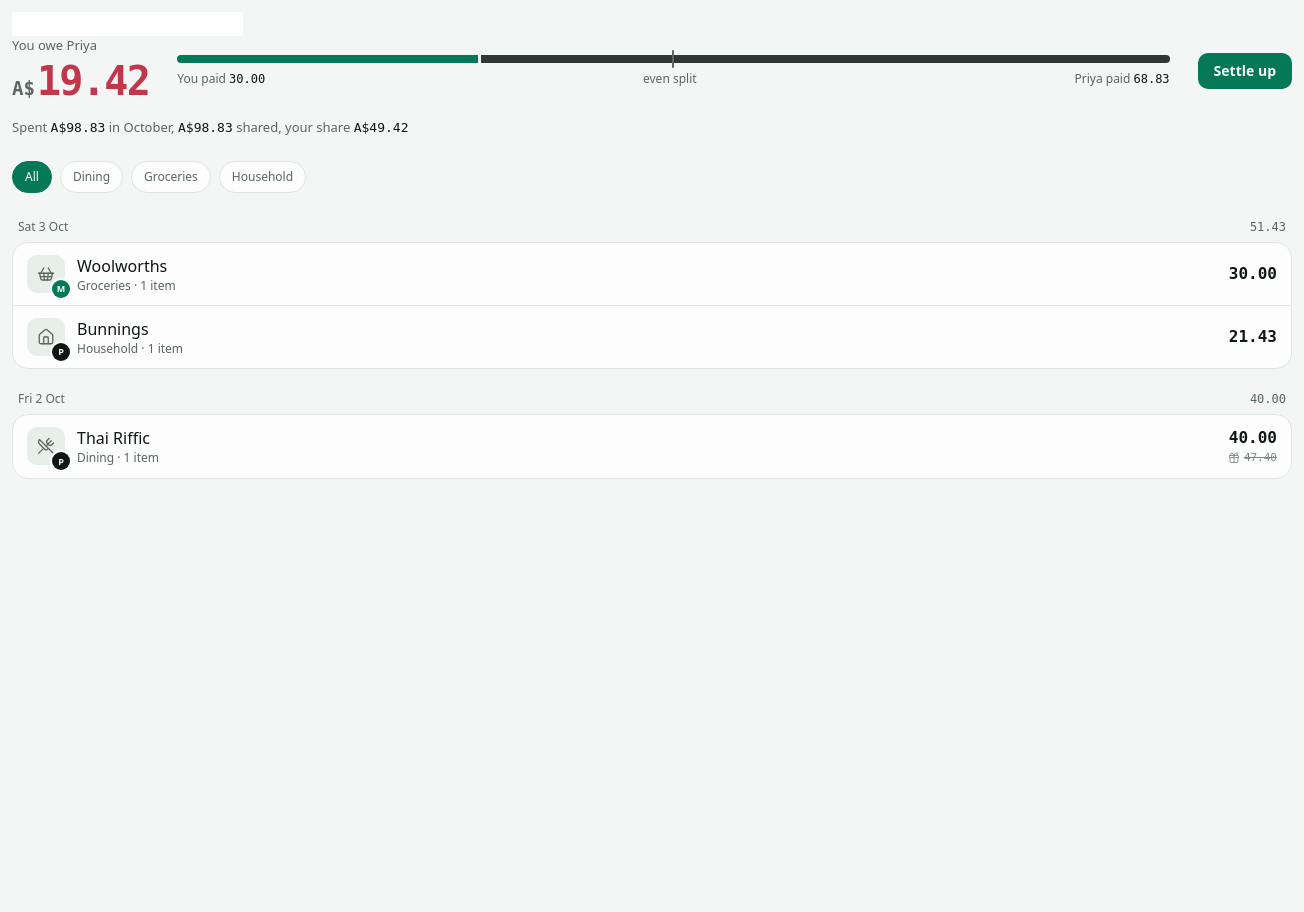
ExpenseList › expands one row at a time on mobile
Click the button "M Woolworths Groceries · 1 item 30.00" at (46, 274), box [13, 243, 1291, 305]
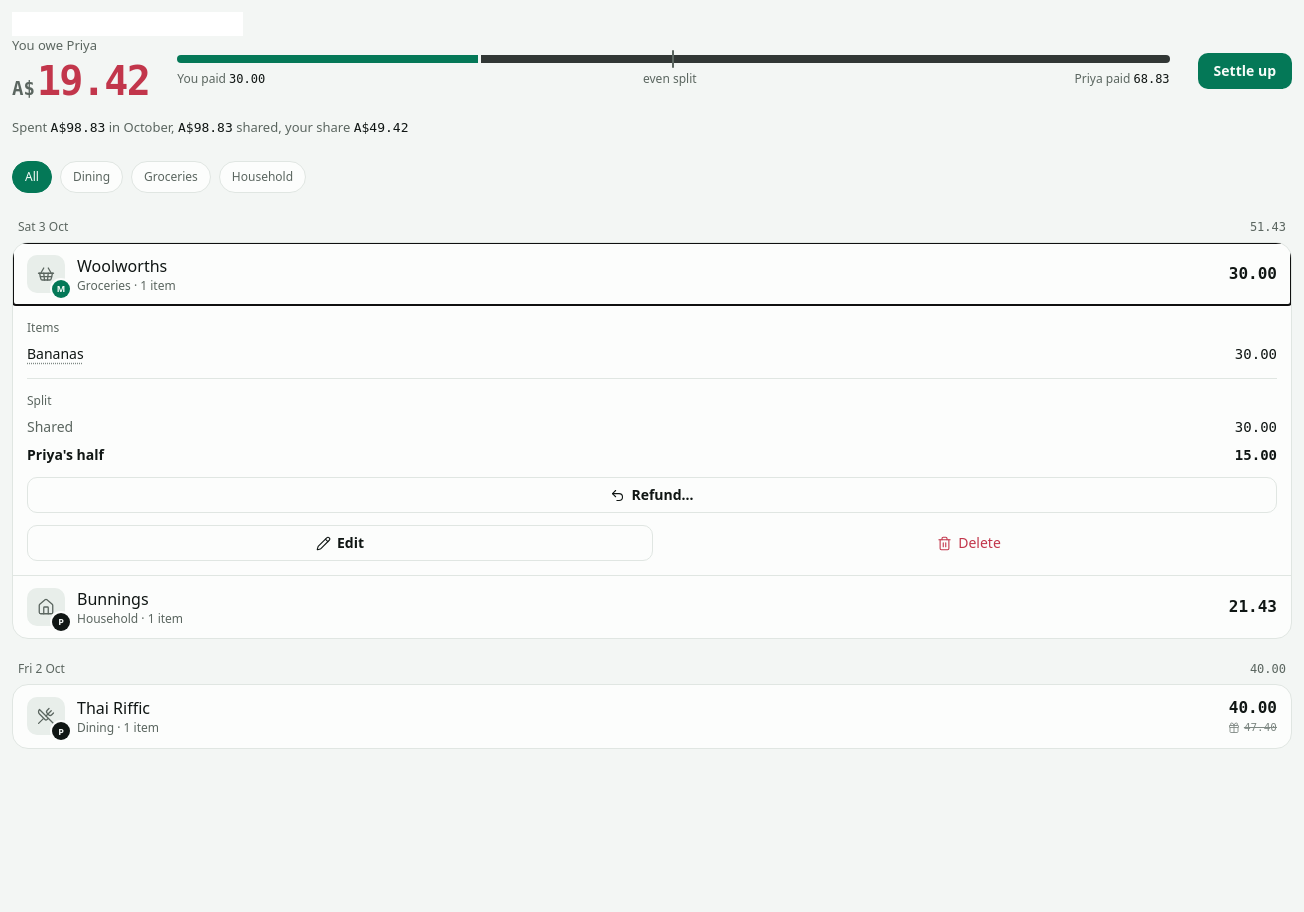
Expected: the link "Bananas" is shown, [27, 344, 84, 363]
Click the button "P Bunnings Household · 1 item 21.43" at (46, 607), box [13, 576, 1291, 638]
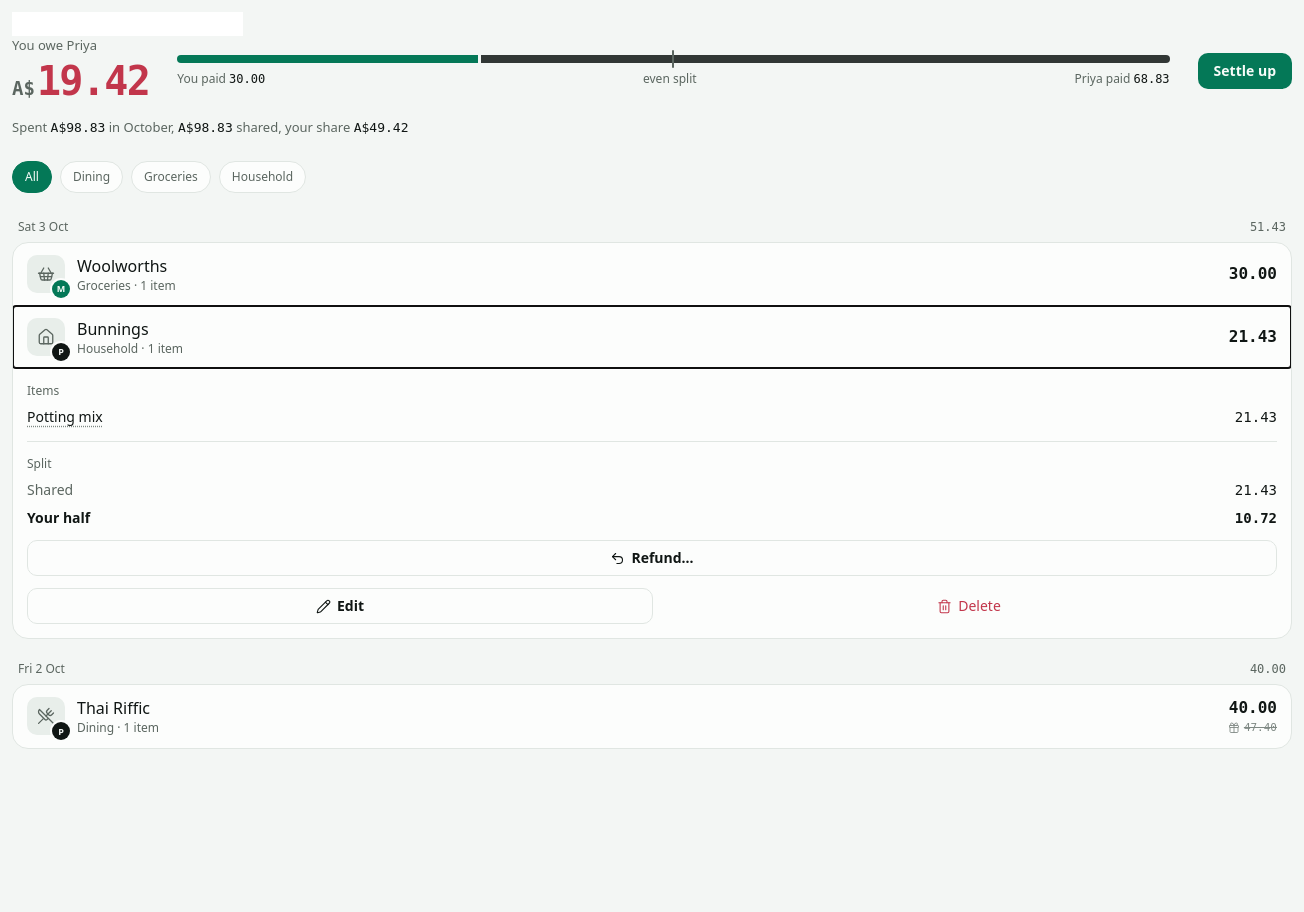
Expected: the link "Bananas" is gone
Expected: the link "Potting mix" is shown, [27, 407, 103, 426]
